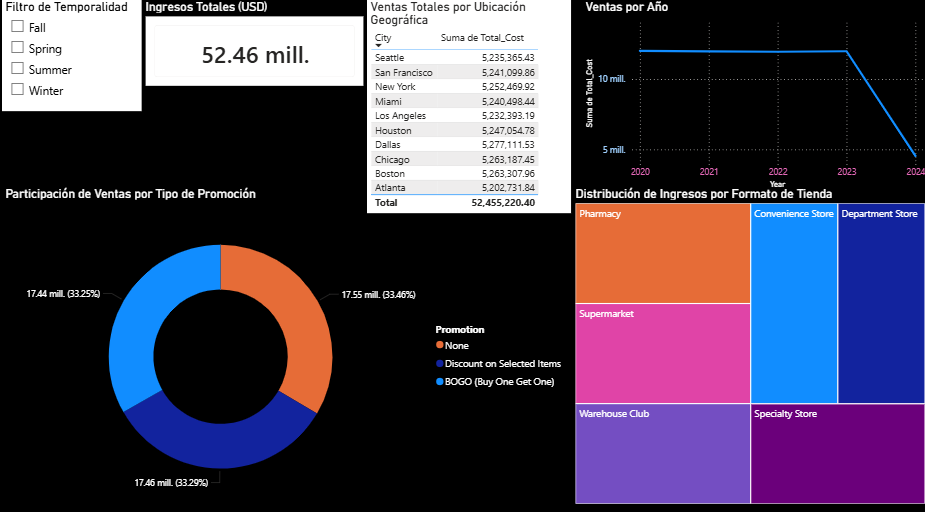

Layout of this report page (visuals, bound fields, positions):
{"tool":"powerbi","page":{"name":"Página 1","canvas":[1280,720],"ordinal":0},"visuals":[{"type":"tableEx","title":"Ventas Totales por Ubicación Geográfica","fields":{"Values":["ventas_retail_procesadas.City","Sum(ventas_retail_procesadas.Total_Cost)"]},"box":[505,8.7,282.1,296.1],"z":0},{"type":"donutChart","title":"Participación de Ventas por Tipo de Promoción","fields":{"Category":["ventas_retail_procesadas.Promotion"],"Y":["Sum(ventas_retail_procesadas.Total_Cost)"]},"box":[0,266.4,787.2,452.8],"z":1000},{"type":"treemap","title":"Distribución de Ingresos por Formato de Tienda","fields":{"Group":["ventas_retail_procesadas.Store_Type"],"Values":["Sum(ventas_retail_procesadas.Total_Cost)"]},"box":[787.2,266.4,492.8,444.1],"z":2000},{"type":"slicer","title":"Filtro de Temporalidad","fields":{"Values":["ventas_retail_procesadas.Season"]},"box":[0,8.7,193.3,155],"z":3000},{"type":"cardVisual","title":"Ingresos Totales (USD)","fields":{"Data":["Sum(ventas_retail_procesadas.Total_Cost)"]},"box":[193.3,8.7,311.7,125.4],"z":4000},{"type":"lineChart","title":"Ventas por Año","fields":{"Category":["ventas_retail_procesadas.Year"],"Y":["Sum(ventas_retail_procesadas.Total_Cost)"]},"box":[801.1,8.7,478.9,266.4],"z":5000}]}

Visuals, with their boxes in screenshot pixels (x1, y1, x2, y2), scaled from the page's 1280x720 canvas onto the 925x512 screenshot:
"Ventas Totales por Ubicación Geográfica" tableEx: select_region(365, 6, 569, 217)
"Participación de Ventas por Tipo de Promoción" donutChart: select_region(0, 189, 569, 511)
"Distribución de Ingresos por Formato de Tienda" treemap: select_region(569, 189, 924, 505)
"Filtro de Temporalidad" slicer: select_region(0, 6, 140, 116)
"Ingresos Totales (USD)" cardVisual: select_region(140, 6, 365, 95)
"Ventas por Año" lineChart: select_region(579, 6, 924, 196)
